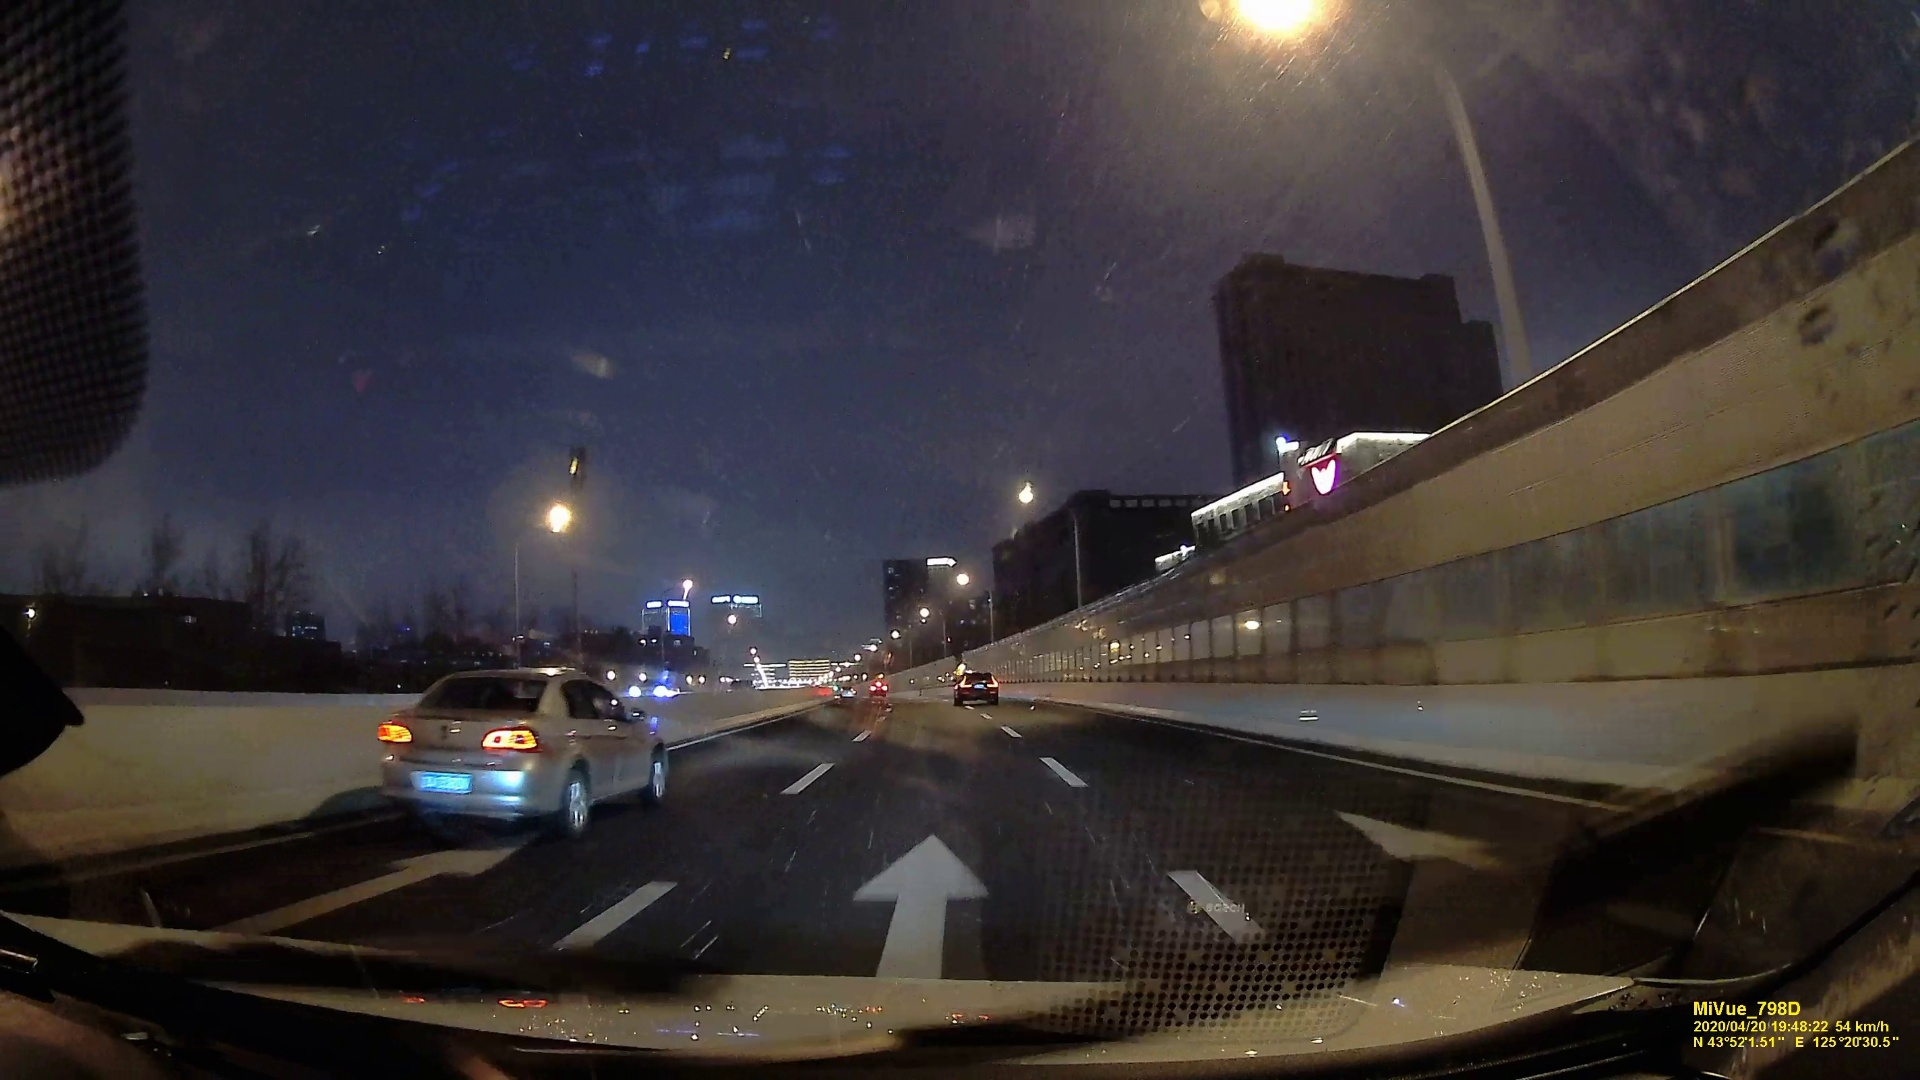vehicle: (367, 663, 665, 837), (949, 670, 997, 704)
